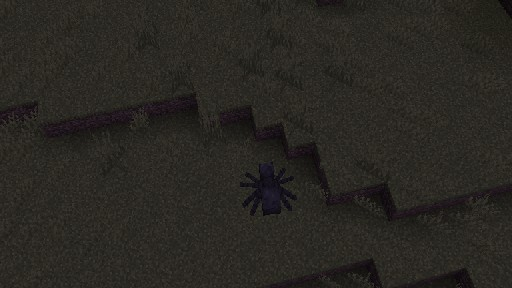spider: (239, 161, 297, 216)
